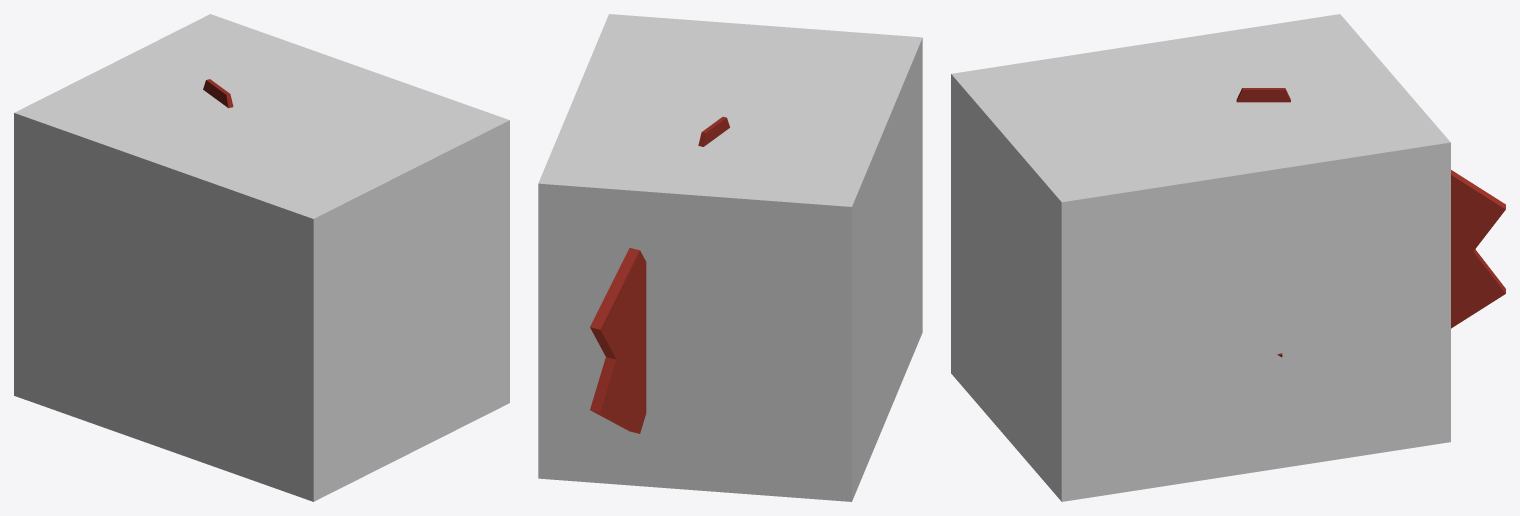
Rendered from jungle_pet4.fbx.
3 renders of one model, left to right at view 1: azimuth 30°, elevation 25°; view 2: azimuth 150°, elevation 25°; view 3: azimuth 270°, elevation 25°, orthographic. The views are drawn at different scales.
Parts seen in each view (by area): view 1: Root__0.00_0.43_0.13__0.84_0.86_1.07; view 2: Root__0.00_0.43_0.13__0.84_0.86_1.07, Tail__Body__0.00_0.40_0.33, Body__Root__0.00_0.40_0.00; view 3: Root__0.00_0.43_0.13__0.84_0.86_1.07, Tail__Body__0.00_0.40_0.33, Body__Root__0.00_0.40_0.00.
Boxes of the visible parts, bbox=[...] form: Root__0.00_0.43_0.13__0.84_0.86_1.07: bbox=[14, 14, 509, 501]; Root__0.00_0.43_0.13__0.84_0.86_1.07: bbox=[538, 14, 922, 501]; Tail__Body__0.00_0.40_0.33: bbox=[590, 248, 646, 433]; Body__Root__0.00_0.40_0.00: bbox=[698, 116, 729, 146]; Root__0.00_0.43_0.13__0.84_0.86_1.07: bbox=[951, 14, 1450, 501]; Tail__Body__0.00_0.40_0.33: bbox=[1451, 170, 1505, 328]; Body__Root__0.00_0.40_0.00: bbox=[1236, 88, 1290, 102].
Bounding box in the file's own units: 32.27 × 24.9 × 40.17.
Materials: 1 (1 with a texture image).
